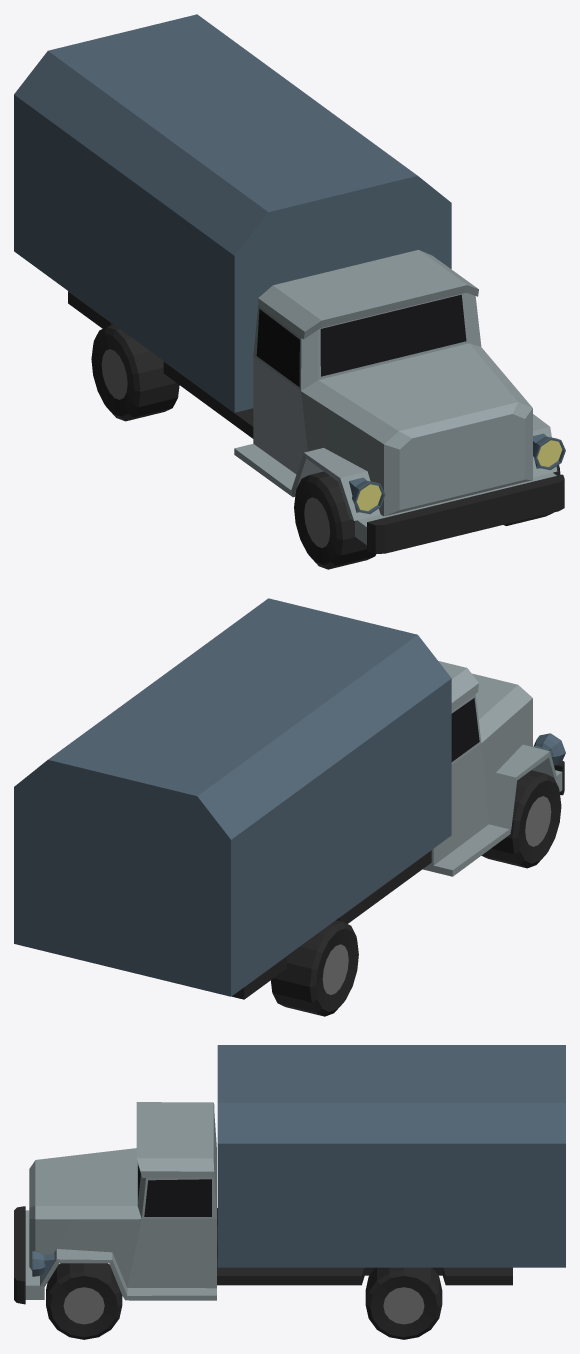
File: Military_Truck_03.fbx
3 views of the same model, one above another, from view 1: azimuth 30°, elevation 25°; view 2: azimuth 150°, elevation 25°; view 3: azimuth 270°, elevation 25° (orthographic). The views are drawn at different scales.
Visible parts, largest first — view 1: Military_Truck_03; view 2: Military_Truck_03; view 3: Military_Truck_03.
Part boxes in pixels (bbox=[...]): Military_Truck_03: bbox=[14, 14, 565, 569]; Military_Truck_03: bbox=[14, 598, 565, 1016]; Military_Truck_03: bbox=[14, 1045, 565, 1339].
Bounding box in the file's own units: 4.06 × 4.9 × 10.94.
